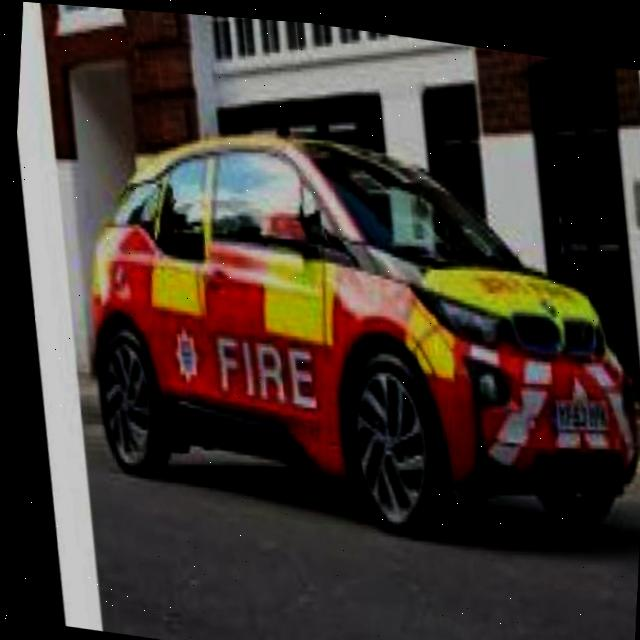emergency: (69, 95, 640, 557)
